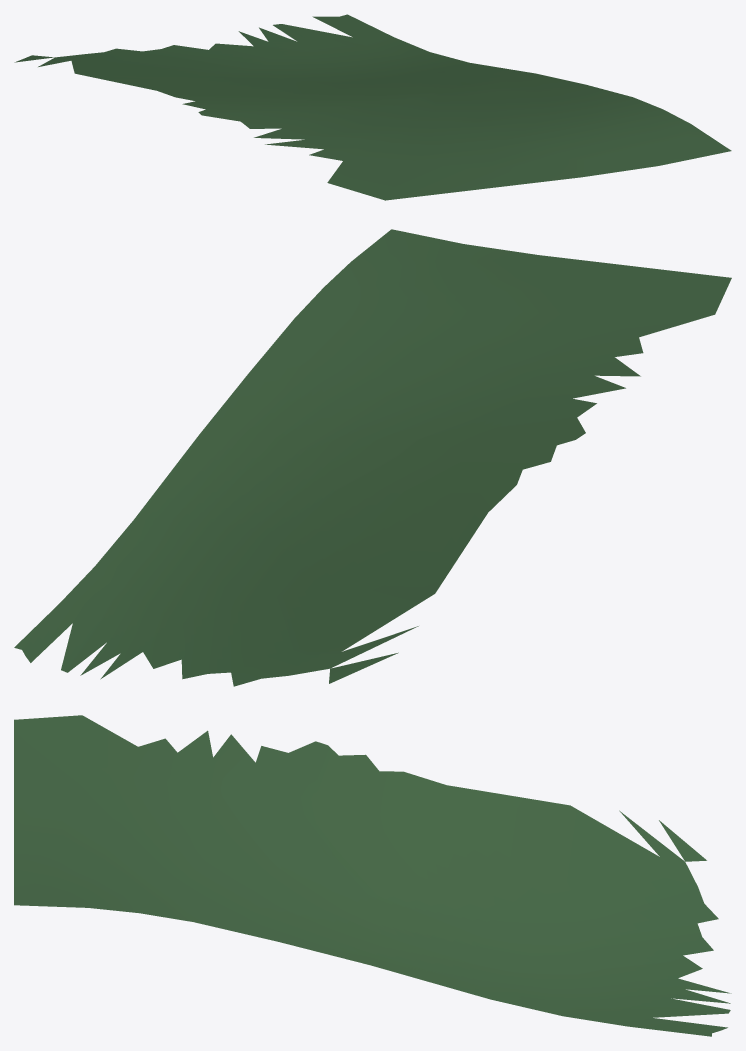
Rendered from payo_land_xm5_y10_lod1.glb.
The picture shows the model from 3 angles, top to bottom: view 1: azimuth 30°, elevation 25°; view 2: azimuth 150°, elevation 25°; view 3: azimuth 270°, elevation 25°; orthographic projection. The views are drawn at different scales.
Parts seen in each view (by area): view 1: payo_land_xm5_y10; view 2: payo_land_xm5_y10; view 3: payo_land_xm5_y10.
Part boxes in pixels (bbox=[...]): payo_land_xm5_y10: bbox=[14, 14, 731, 200]; payo_land_xm5_y10: bbox=[14, 229, 731, 686]; payo_land_xm5_y10: bbox=[14, 715, 731, 1036].
Size of the model in its own units: 136 by 64.45 by 253.
